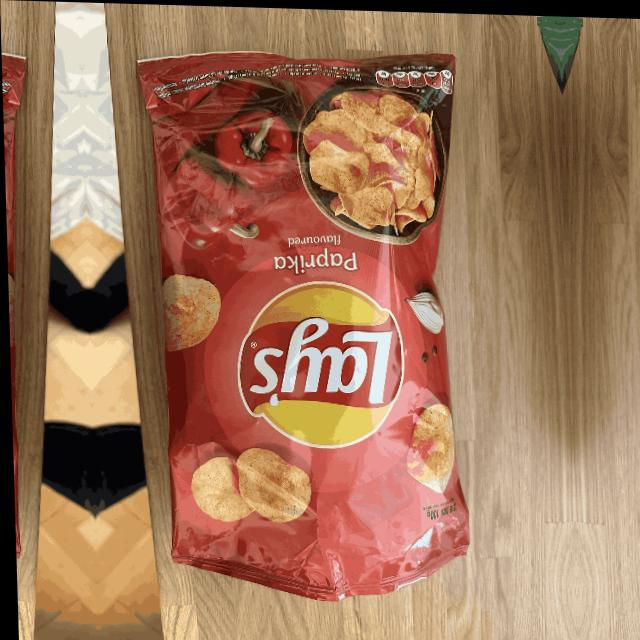lays: (236, 279, 403, 448)
